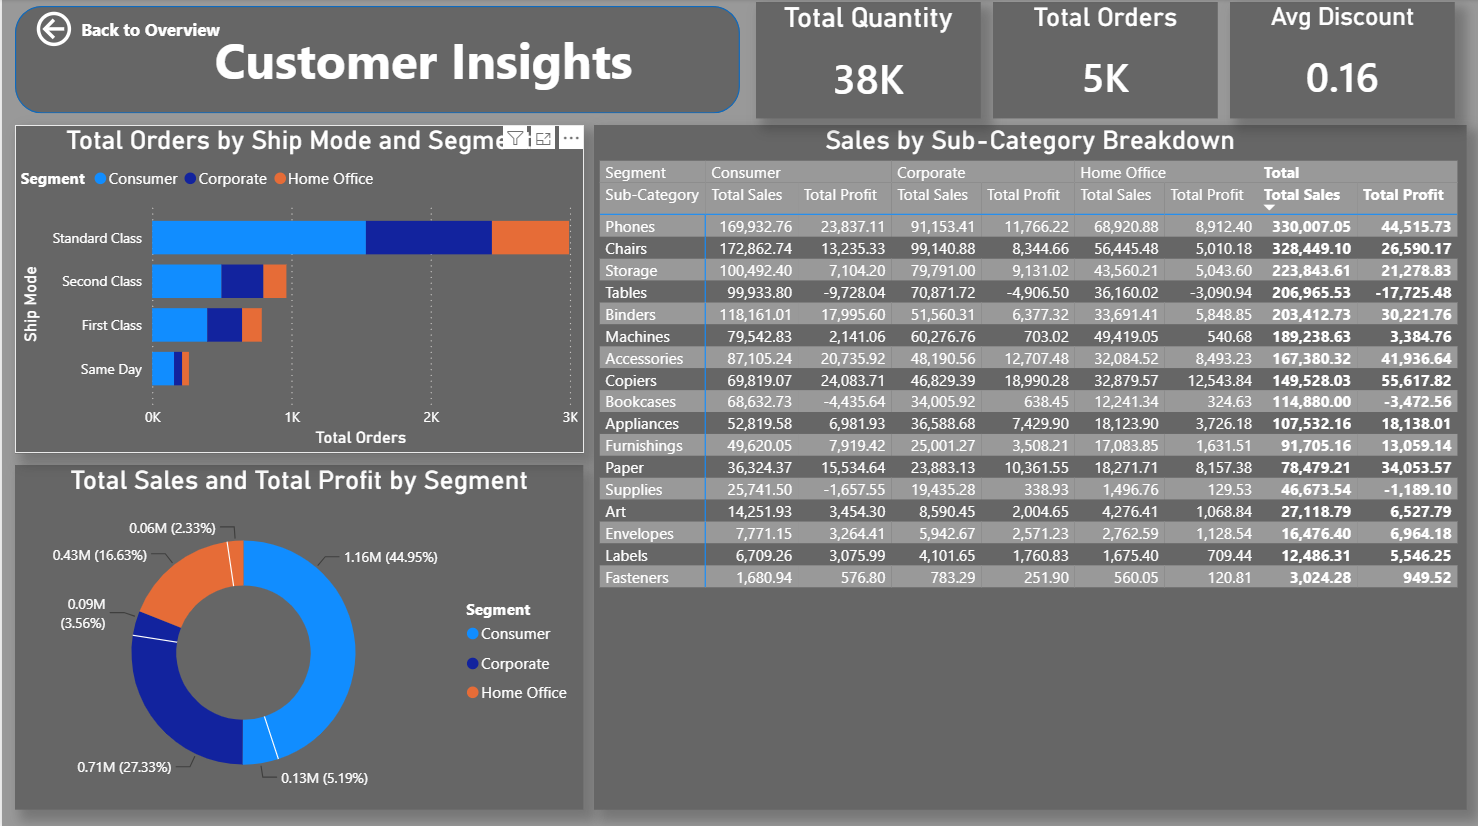

What the dashboard file says about the page in this screenshot:
{"tool":"powerbi","page":{"name":"Customer Insights","canvas":[1280,720],"ordinal":1},"visuals":[{"type":"donutChart","fields":{"Category":["Sample - Superstore.Segment"],"Y":["Sample - Superstore.Total Sales","Sample - Superstore.Total Profit"]},"box":[11.2,403.9,493.4,299.5],"z":0},{"type":"barChart","fields":{"Category":["Sample - Superstore.Ship Mode"],"Y":["Sample - Superstore.Total Orders"],"Series":["Sample - Superstore.Segment"]},"box":[11.2,109.4,493.4,284.6],"z":1000},{"type":"pivotTable","title":"Sales by Sub-Category Breakdown","fields":{"Rows":["Sample - Superstore.Sub-Category"],"Columns":["Sample - Superstore.Segment"],"Values":["Sample - Superstore.Total Sales","Sample - Superstore.Total Profit"]},"box":[513.2,109.4,756.8,594],"z":2000},{"type":"cardVisual","title":"Total Quantity","fields":{"Data":["Sample - Superstore.Total Quantity"]},"box":[653.7,2.5,195.1,100.7],"z":3000},{"type":"cardVisual","title":"Total Orders","fields":{"Data":["Sample - Superstore.Total Orders"]},"box":[860,2.5,195.1,100.7],"z":4000},{"type":"cardVisual","title":"Avg Discount","fields":{"Data":["Sample - Superstore.Avg Discount"]},"box":[1065,2.5,195.1,100.7],"z":5000},{"type":"shape","box":[11.2,6.2,628.8,93.2],"z":6000},{"type":"textbox","box":[124.3,18.6,483.4,69.6],"z":7000},{"type":"actionButton","box":[24.9,6.2,167.8,39.8],"z":7001}]}

Visuals, with their boxes in screenshot pixels (x1, y1, x2, y2), scaled from the page's 1280x720 canvas onto the 1478x826 screenshot:
donutChart - Sample - Superstore.Segment x Sample - Superstore.Total Sales: box=[13, 463, 583, 807]
barChart - Sample - Superstore.Ship Mode x Sample - Superstore.Total Orders: box=[13, 126, 583, 452]
"Sales by Sub-Category Breakdown" pivotTable: box=[593, 126, 1466, 807]
"Total Quantity" cardVisual: box=[755, 3, 980, 118]
"Total Orders" cardVisual: box=[993, 3, 1218, 118]
"Avg Discount" cardVisual: box=[1230, 3, 1455, 118]
shape: box=[13, 7, 739, 114]
textbox: box=[144, 21, 702, 101]
actionButton: box=[29, 7, 223, 53]
